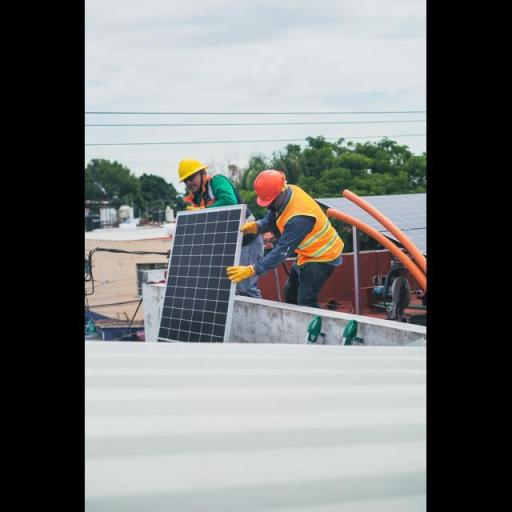Person: (224, 157, 348, 308), (177, 144, 239, 224)
gloves: (217, 255, 260, 288), (236, 218, 262, 242)
helmet: (248, 162, 292, 212), (172, 151, 214, 186)
vest: (254, 181, 348, 270), (176, 170, 230, 212)
